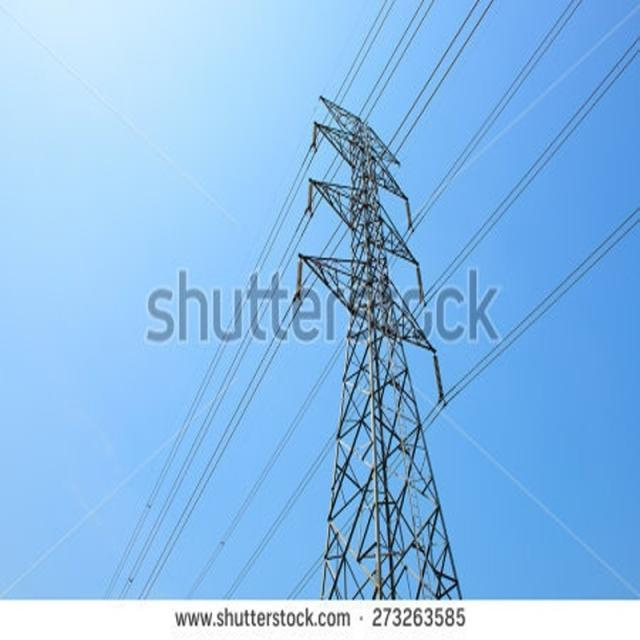non-critical vegetation: (306, 97, 465, 605)
